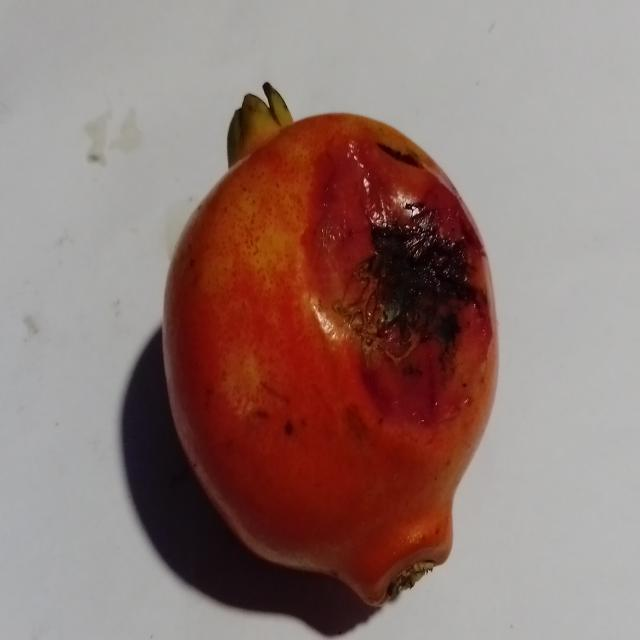Rotten: (154, 78, 506, 607)
